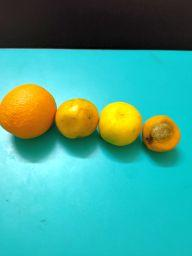orange: (0, 83, 57, 140), (99, 101, 142, 147), (55, 98, 99, 140), (142, 116, 181, 153)
